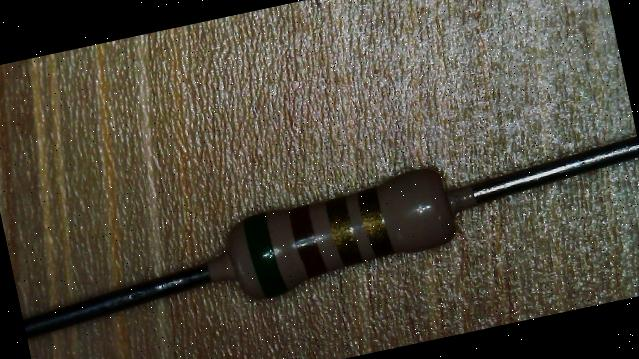brown: (288, 203, 326, 277)
gold: (356, 187, 391, 258), (326, 196, 361, 267)
green: (240, 210, 285, 298)
resistor: (208, 145, 482, 320)
